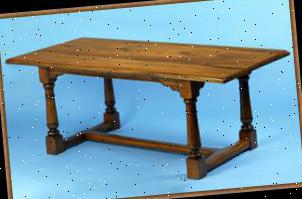Mesa: (8, 18, 298, 193)
